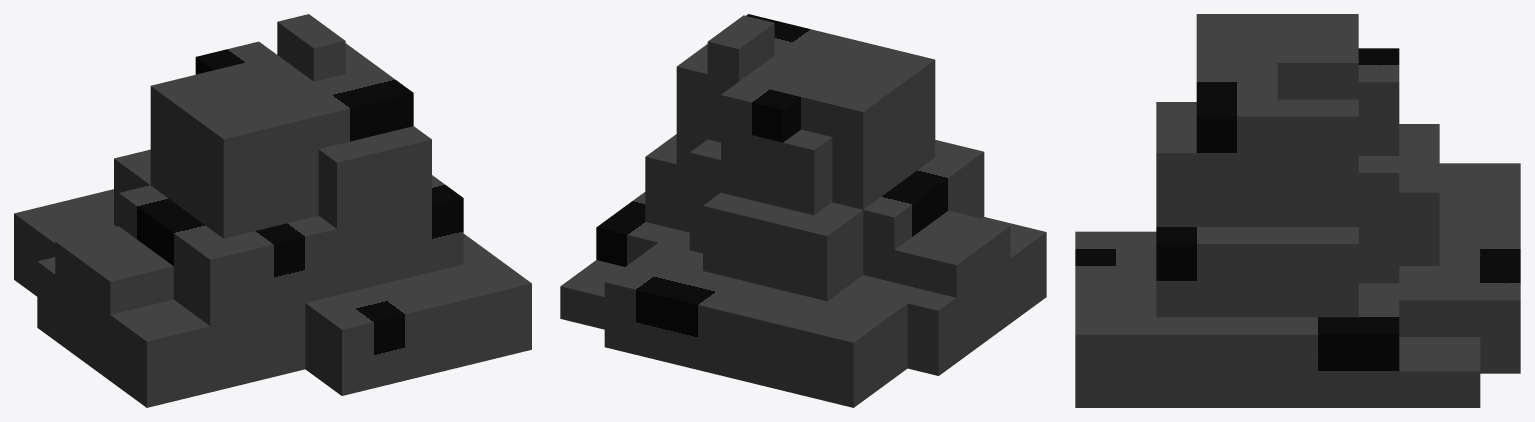
Rendered from CoalOre.fbx.
3 renders of one model, left to right at view 1: azimuth 30°, elevation 25°; view 2: azimuth 150°, elevation 25°; view 3: azimuth 270°, elevation 25°, orthographic. The views are drawn at different scales.
Parts seen in each view (by area): view 1: cube_12, cube_4, cube, cube_2, cube_10, cube_6, cube_1, cube_11, cube_5, cube_8; view 2: cube_1, cube_12, cube_5, cube_4, cube_2, cube_9, cube_6, cube_8, cube, cube_11, cube_3, cube_7; view 3: cube, cube_12, cube_1, cube_4, cube_3, cube_5, cube_7, cube_10, cube_11, cube_8, cube_9.
Boxes of the visible parts, box(x1,y1,x2,y2) form: cube_12: box(150, 43, 413, 238); cube_4: box(119, 175, 463, 325); cube: box(305, 234, 531, 395); cube_2: box(37, 257, 305, 407); cube_10: box(318, 126, 431, 228); cube_6: box(55, 226, 173, 314); cube_1: box(14, 189, 115, 296); cube_11: box(277, 14, 345, 81); cube_5: box(114, 149, 150, 226); cube_8: box(195, 41, 276, 74); cube_1: box(604, 242, 907, 407); cube_12: box(676, 14, 935, 209); cube_5: box(703, 192, 863, 301); cube_4: box(645, 134, 984, 282); cube_2: box(845, 217, 1046, 375); cube_9: box(721, 127, 832, 215); cube_6: box(894, 210, 1010, 297); cube_8: box(721, 82, 800, 142); cube: box(596, 192, 689, 266); cube_11: box(707, 15, 774, 81); cube_3: box(560, 260, 624, 329); cube_7: box(689, 139, 720, 253); cube: box(1075, 231, 1399, 407); cube_12: box(1196, 14, 1358, 226); cube_1: box(1399, 163, 1520, 373); cube_4: box(1156, 227, 1358, 317); cube_3: box(1399, 337, 1480, 407); cube_5: box(1399, 124, 1439, 265); cube_7: box(1358, 156, 1399, 283); cube_10: box(1156, 102, 1196, 226); cube_11: box(1277, 45, 1358, 99); cube_8: box(1358, 48, 1399, 119); cube_9: box(1358, 119, 1399, 155).
Bounding box in the file's own units: 68.75 × 50 × 68.75.
1 material, 1 textured.
